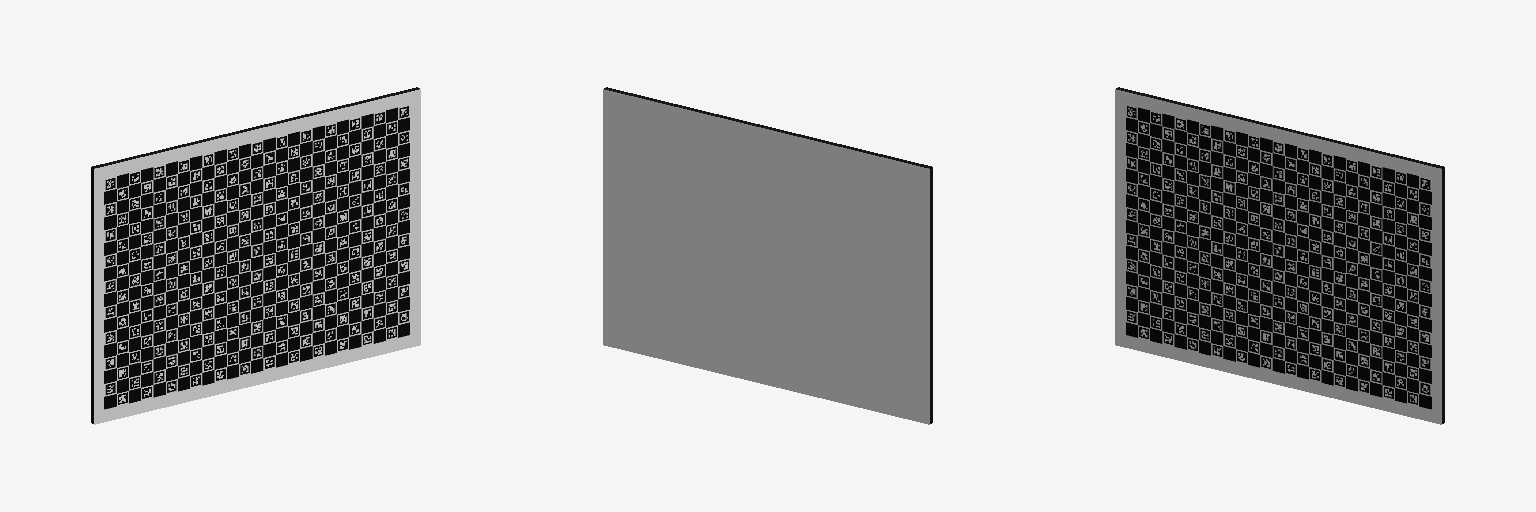
3 views of the same model, side by side, from view 1: azimuth 30°, elevation 25°; view 2: azimuth 150°, elevation 25°; view 3: azimuth 330°, elevation 25° (orthographic).
Bounding box in the file's own units: 0.4 × 0.3 × 0.006.
3 materials, 1 textured.